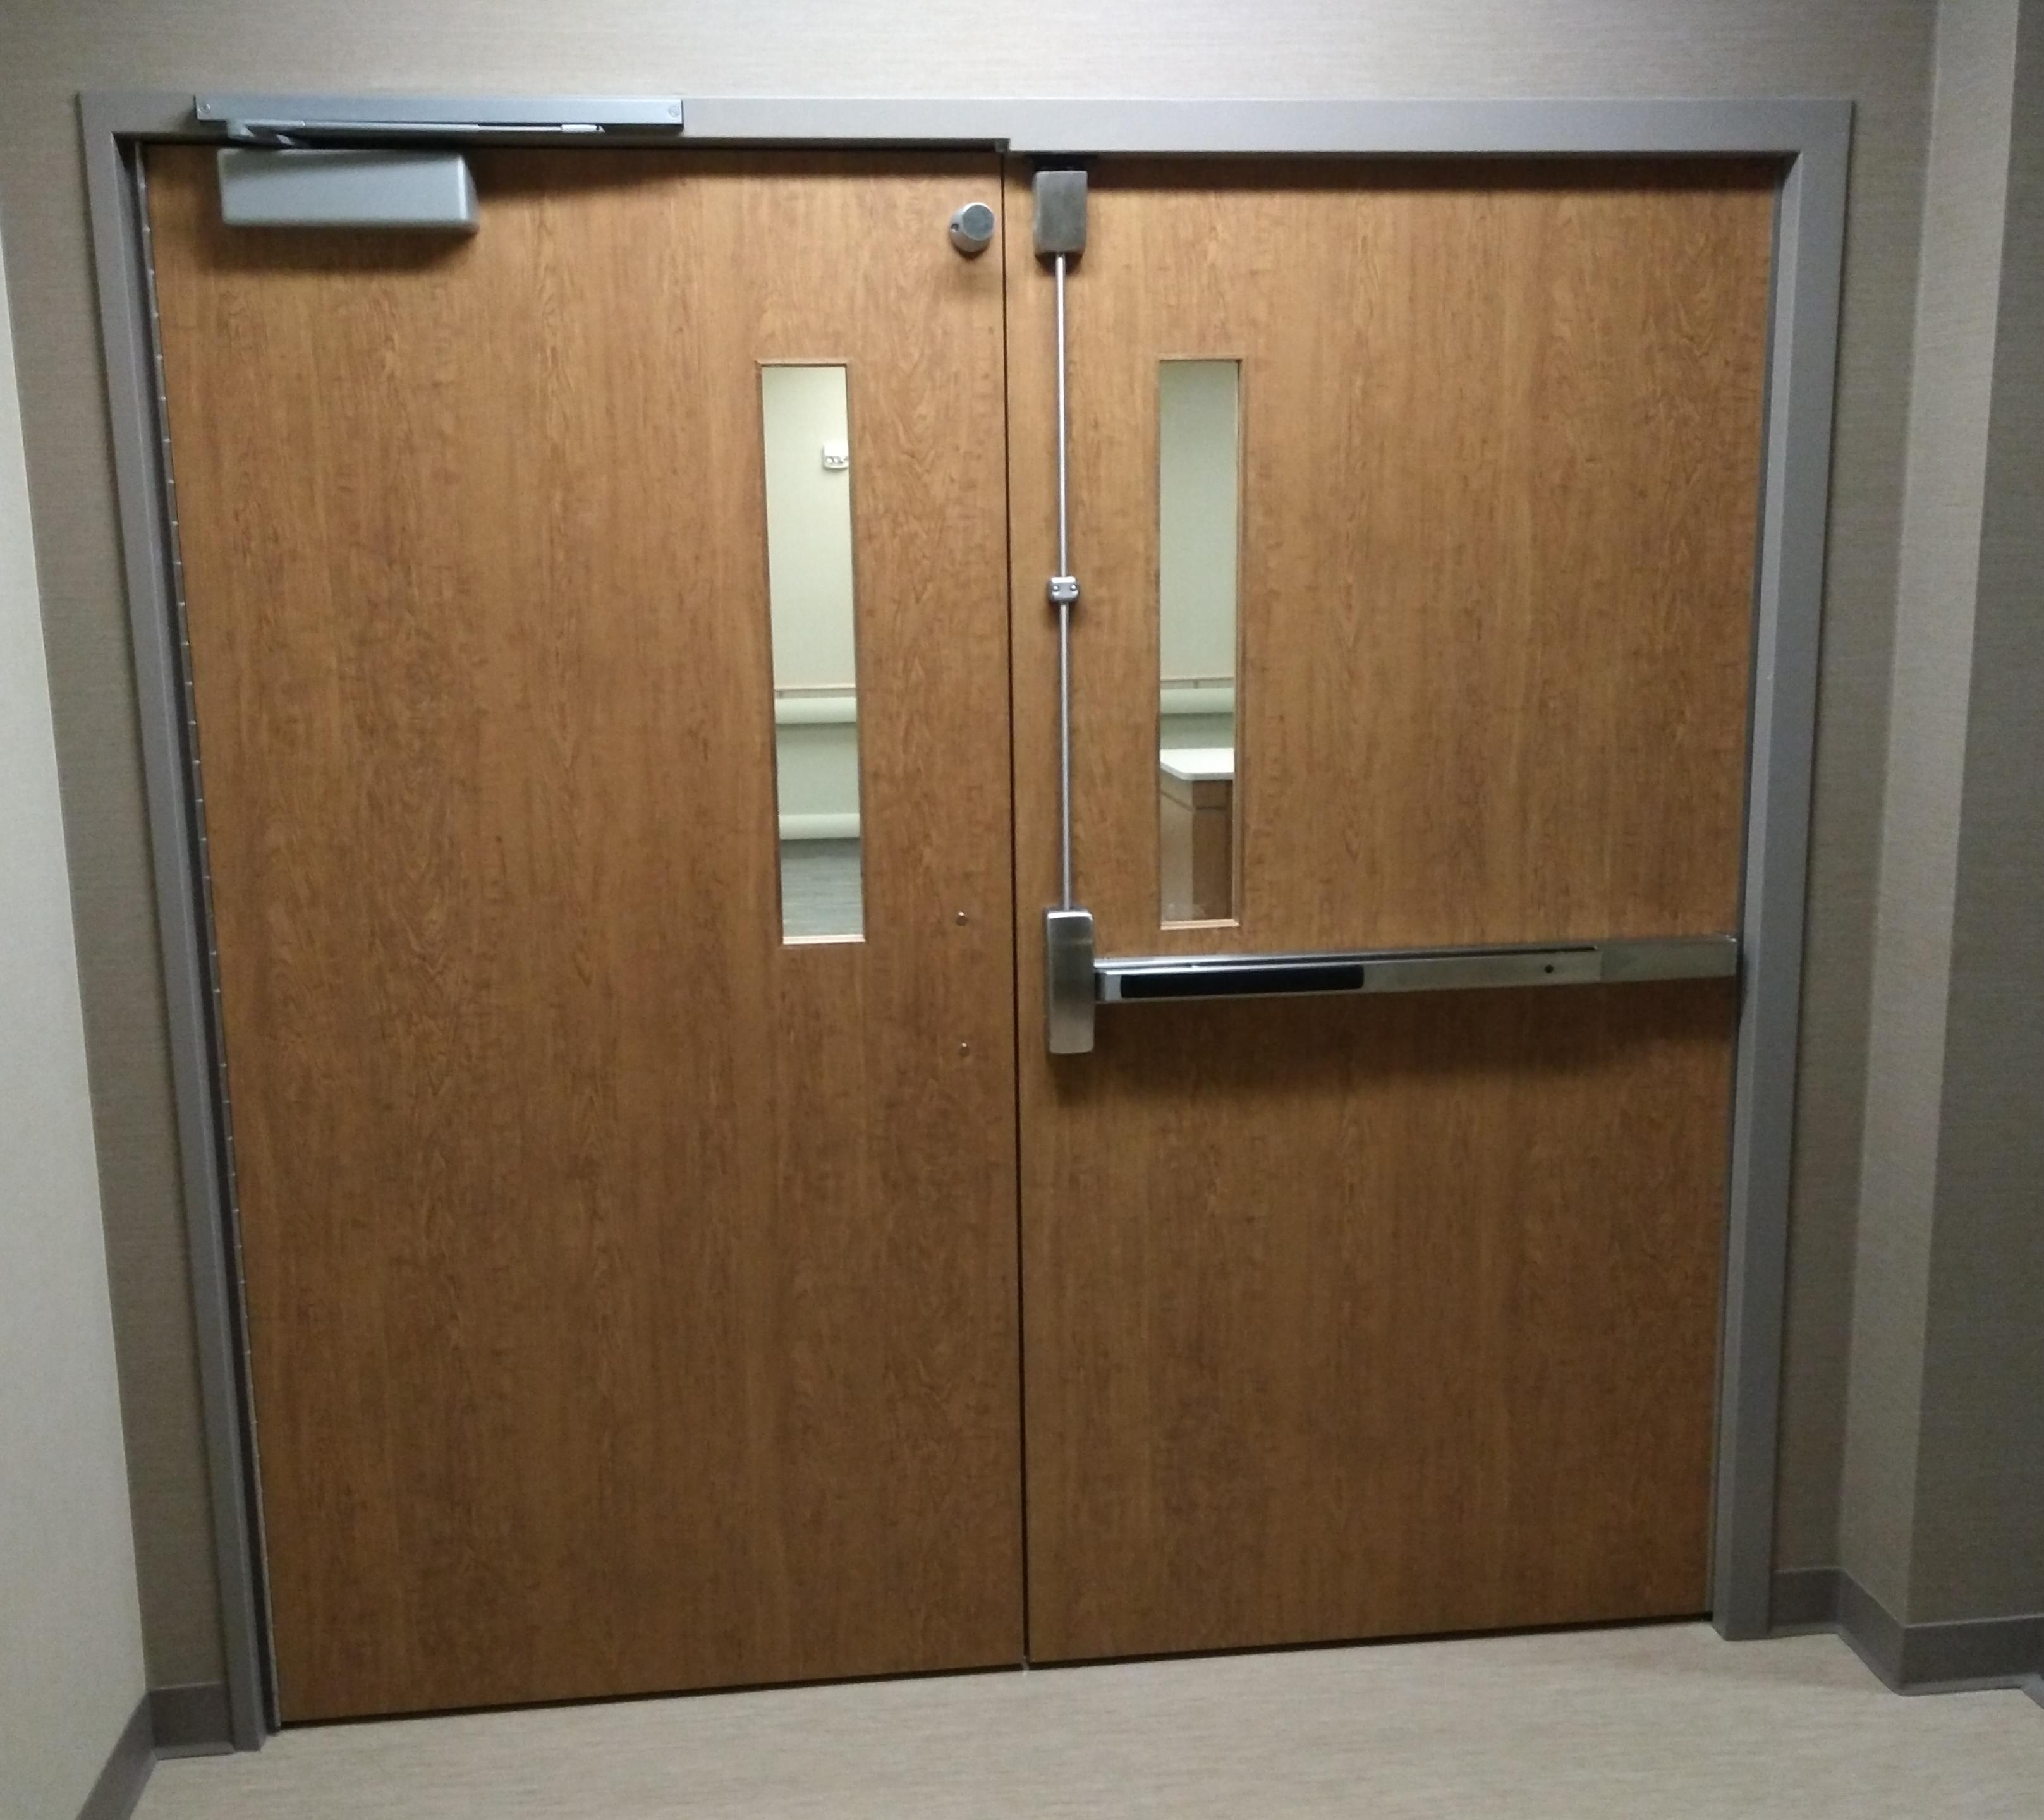door: (97, 114, 1770, 1660)
